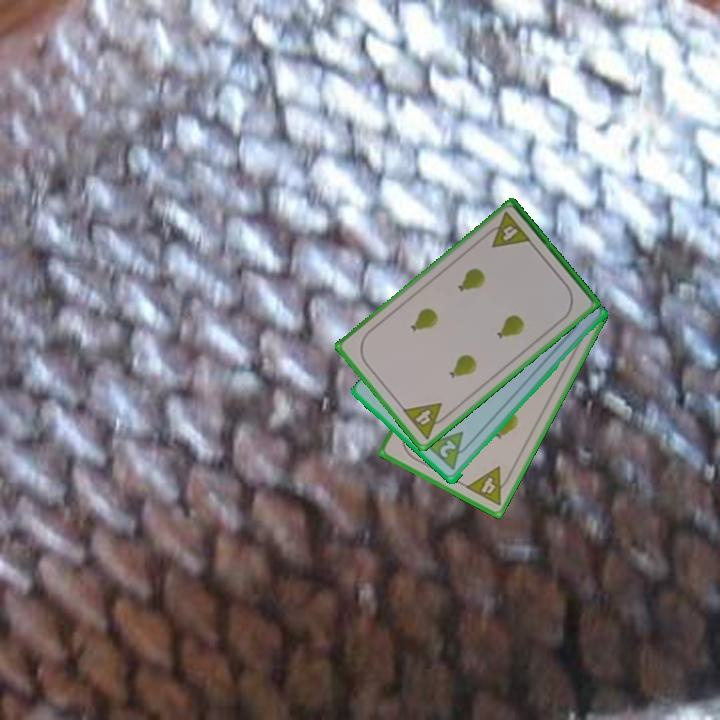2p: (436, 437, 460, 461)
4p: (462, 463, 515, 509), (399, 399, 453, 443), (481, 209, 534, 251)
